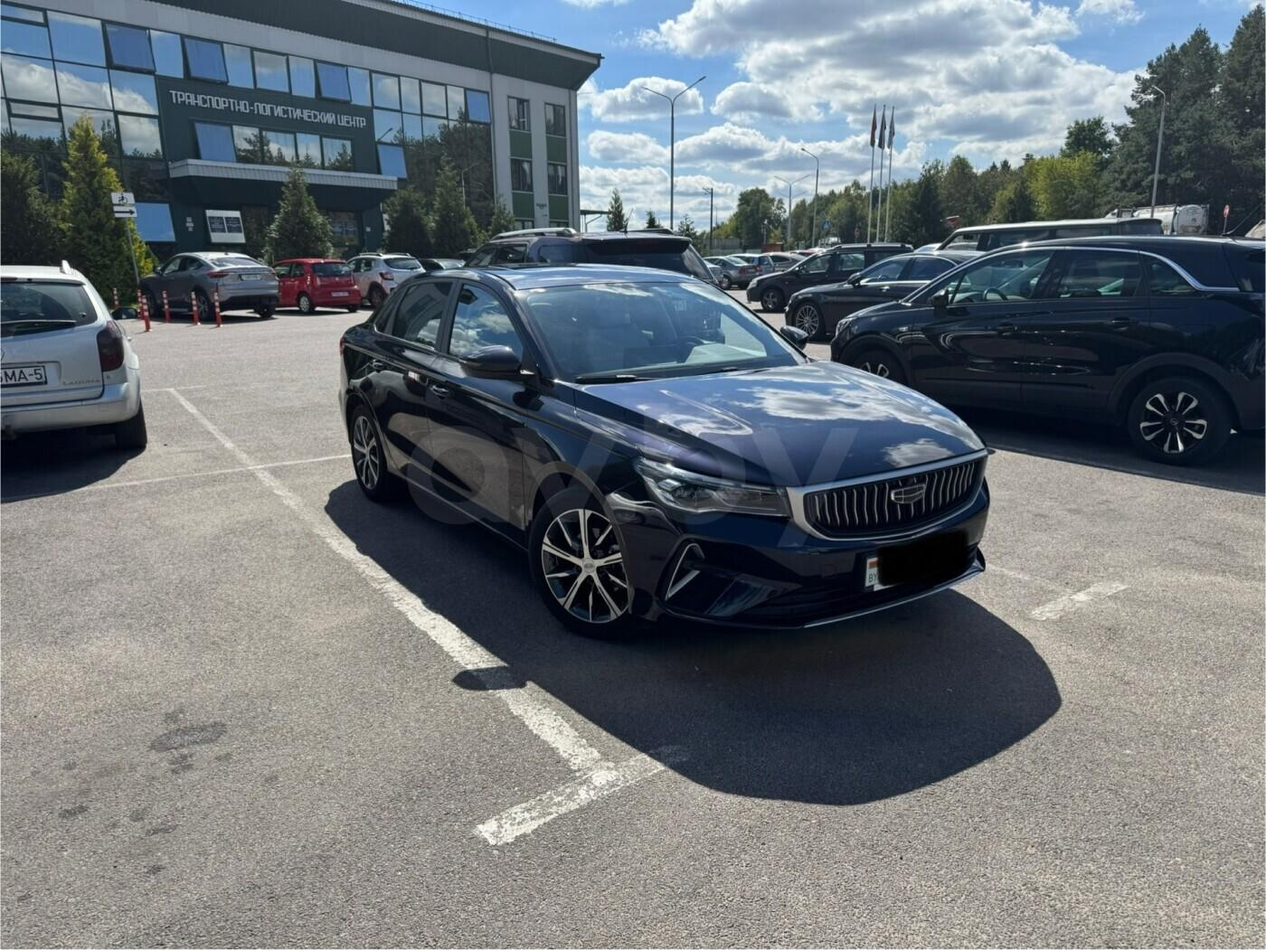Emgrand_2021: (338, 256, 996, 637)
